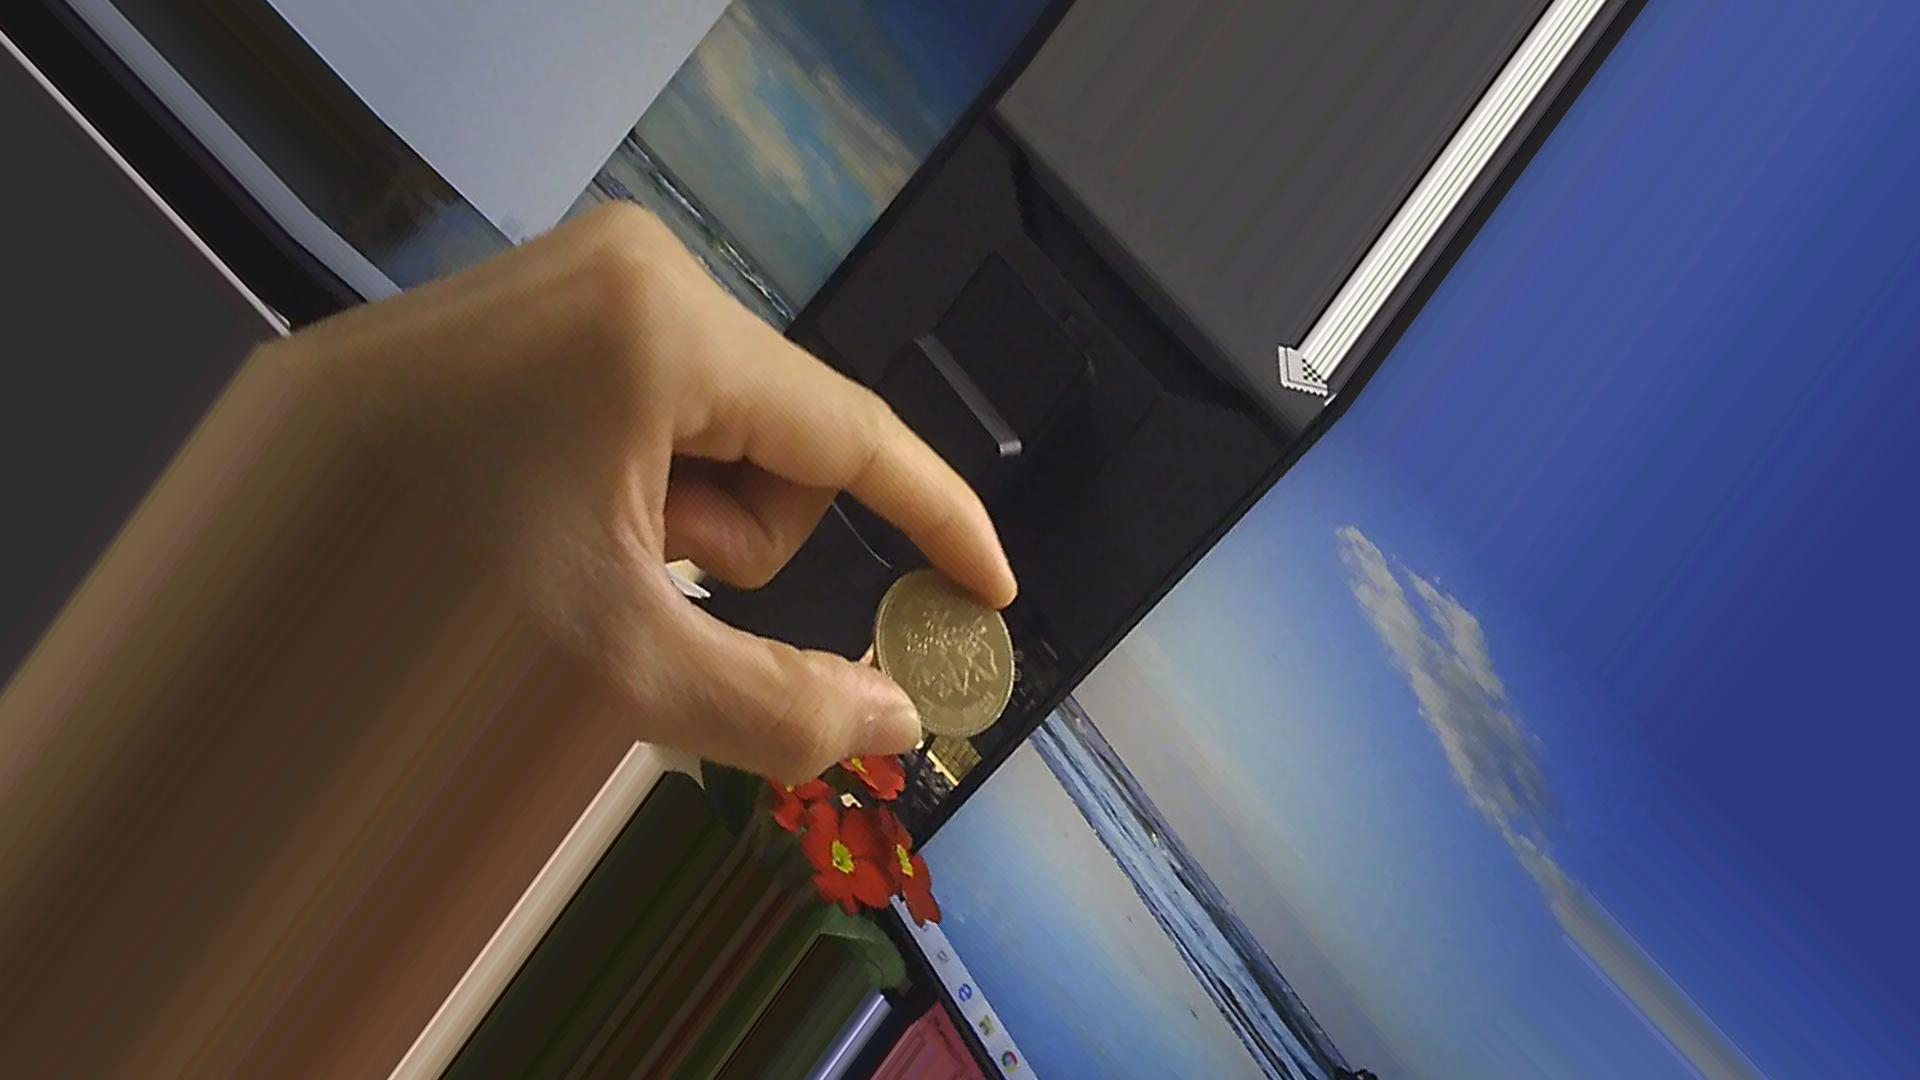500 Yen: (868, 562, 1034, 760)
